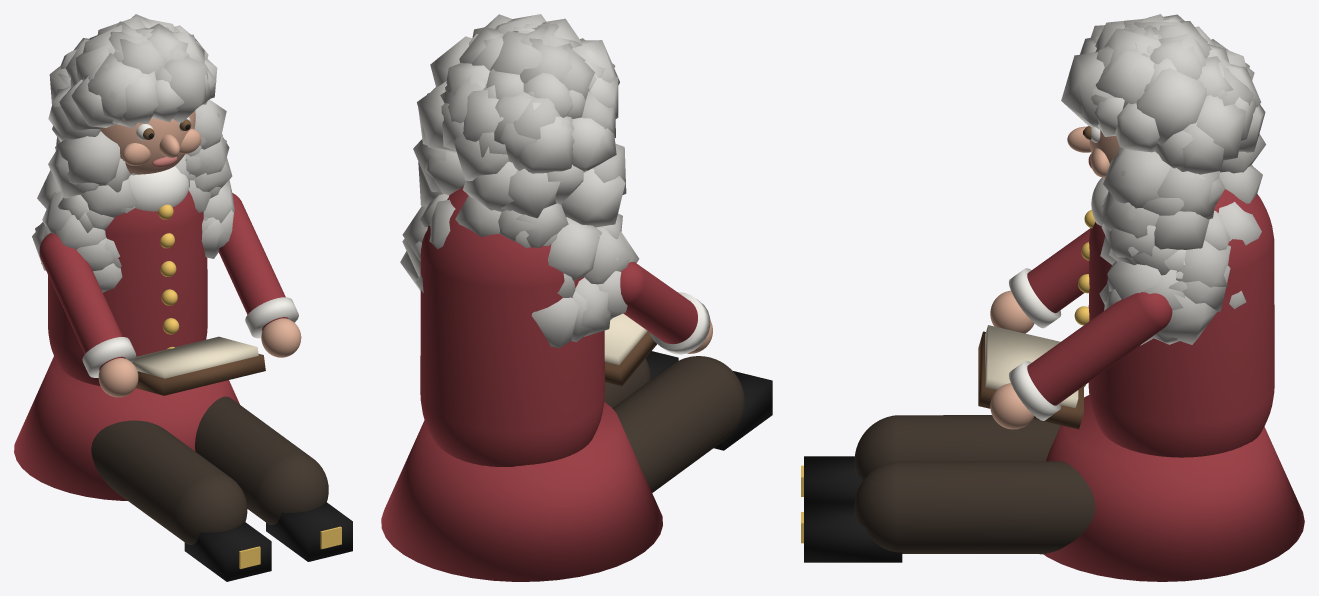
File: newton.glb
3 views of the same model, side by side, from view 1: azimuth 30°, elevation 25°; view 2: azimuth 150°, elevation 25°; view 3: azimuth 270°, elevation 25° (orthographic). The views are drawn at different scales.
Visible parts, largest first — view 1: Wig, Torso, CoatSkirt, Leg, Leg.001, Sleeve, Sleeve.001, Shoe, Shoe.001, BookPages, BookCover, Skull (+6 smaller); view 2: Wig, Torso, CoatSkirt, Leg, Sleeve, Shoe, BookPages, BookCover, Cuff, Leg.001, Shoe.001; view 3: Wig, CoatSkirt, Torso, Leg.001, Leg, Sleeve.001, Shoe.001, Sleeve, BookPages, Shoe, BookCover, Hand.001 (+3 smaller).
Part boxes in pixels (x1,y1,x2,y2): Wig: (32, 14, 234, 292); Torso: (48, 190, 207, 386); CoatSkirt: (14, 356, 239, 500); Leg: (91, 420, 247, 544); Leg.001: (195, 396, 328, 524); Sleeve: (39, 233, 125, 370); Sleeve.001: (218, 193, 288, 330); Shoe: (184, 521, 271, 581); Shoe.001: (266, 502, 352, 561); BookPages: (132, 336, 258, 378); BookCover: (135, 354, 265, 395); Skull: (100, 110, 195, 174); Wig: (400, 14, 639, 348); Torso: (420, 187, 604, 466); CoatSkirt: (381, 402, 662, 581); Leg: (612, 356, 744, 492); Sleeve: (620, 262, 697, 344); Shoe: (714, 371, 772, 450); BookPages: (604, 313, 647, 364); BookCover: (605, 331, 656, 385); Cuff: (649, 292, 710, 354); Leg.001: (604, 358, 650, 408); Shoe.001: (646, 351, 678, 379); Wig: (1061, 14, 1265, 345); CoatSkirt: (1043, 395, 1304, 581); Torso: (1088, 189, 1274, 457); Leg.001: (854, 461, 1095, 554); Leg: (854, 415, 1060, 479); Sleeve.001: (1027, 292, 1172, 405); Shoe.001: (804, 502, 902, 562); Sleeve: (1027, 228, 1090, 313); BookPages: (985, 325, 1078, 408); Shoe: (804, 456, 863, 502); BookCover: (978, 331, 1083, 429); Hand.001: (990, 383, 1034, 429).
Bounding box in the file's own units: 1.04 × 2.03 × 1.84.
